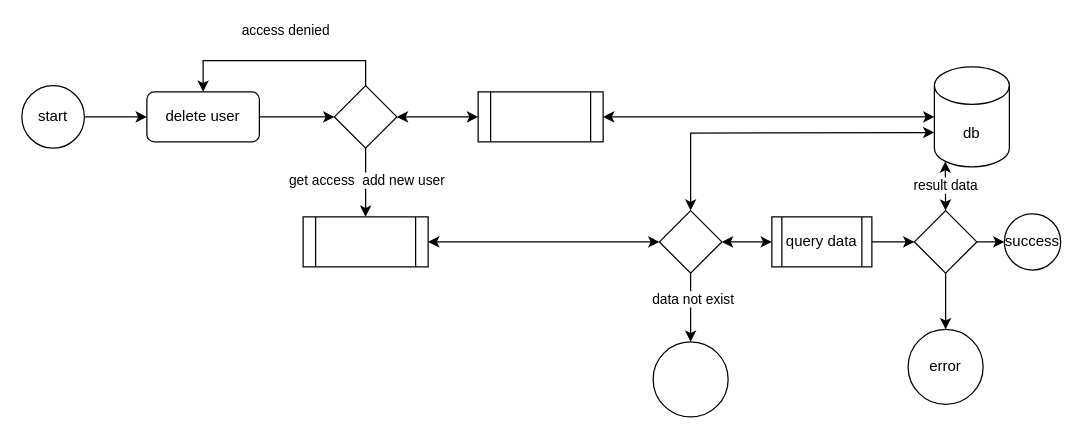
This 1083x439 diagram has some shape labels left out. The centre of each missing label's shape, as x and y in pixels:
"not exist" goes at point 690,379.
"verify access" goes at point 540,116.
"verify data exist" goes at point 365,241.
